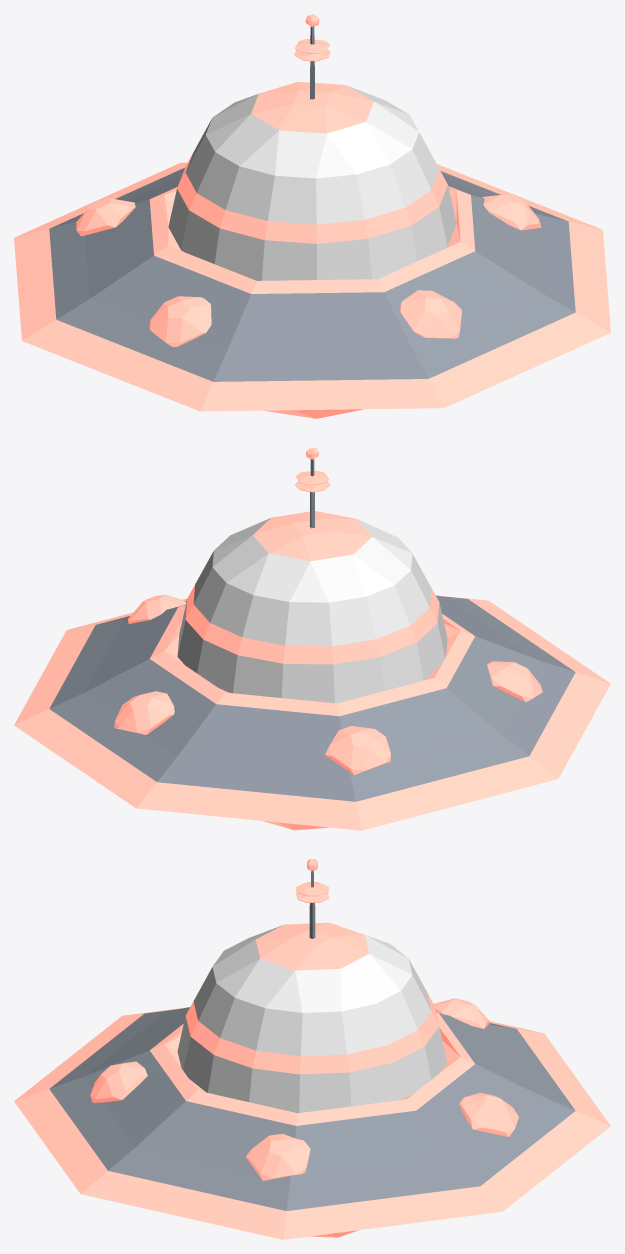
The model's file is SM_ufo_mocne.fbx.
The picture shows the model from 3 angles, top to bottom: view 1: azimuth 30°, elevation 25°; view 2: azimuth 150°, elevation 25°; view 3: azimuth 270°, elevation 25°; orthographic projection. The views are drawn at different scales.
Visible parts, largest first — view 1: SM_ufo_mocne; view 2: SM_ufo_mocne; view 3: SM_ufo_mocne.
Part boxes in pixels (x1,y1,x2,y2): SM_ufo_mocne: (14,14,610,418); SM_ufo_mocne: (14,447,610,830); SM_ufo_mocne: (14,859,610,1239).
Bounding box in the file's own units: 1.42 × 0.8993 × 1.42.
